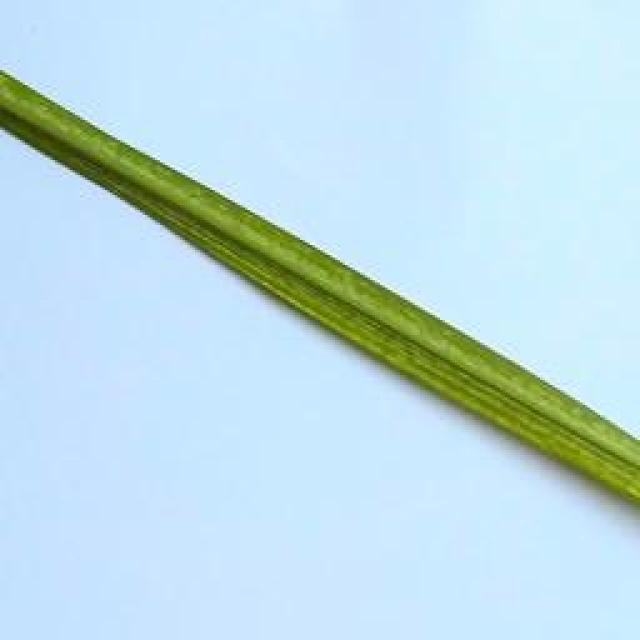Healthy-Plant: (0, 51, 640, 506)
